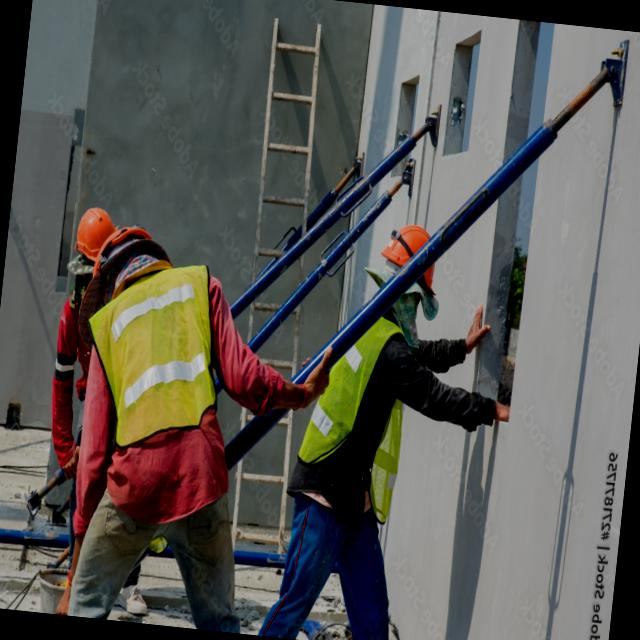helmet: (374, 210, 451, 299), (67, 198, 124, 270)
vest: (66, 246, 236, 476), (285, 308, 436, 512)
